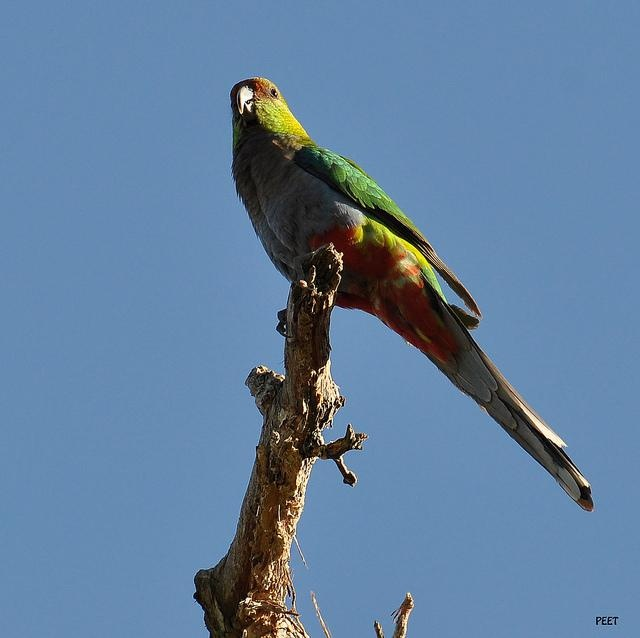bird: (212, 62, 598, 513)
